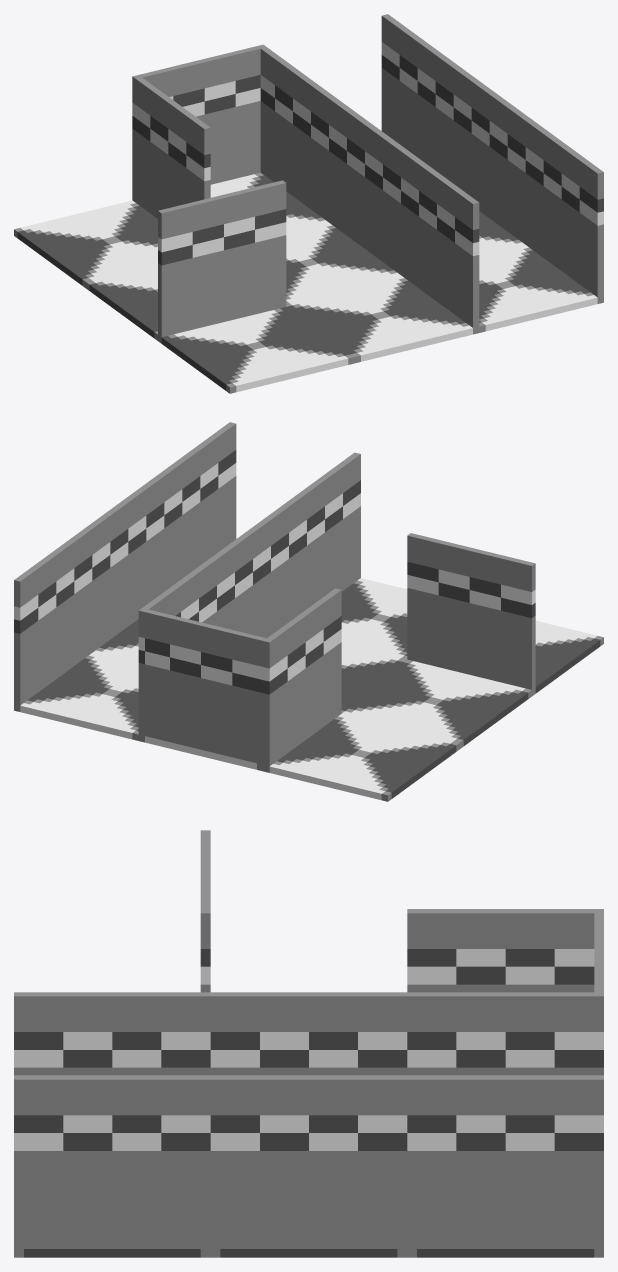
File: level_maze-16.obj
The picture shows the model from 3 angles, top to bottom: view 1: azimuth 30°, elevation 25°; view 2: azimuth 150°, elevation 25°; view 3: azimuth 270°, elevation 25°; orthographic projection. The views are drawn at different scales.
Visible parts, largest first — view 1: level_maze-16; view 2: level_maze-16; view 3: level_maze-16.
Part boxes in pixels (x1=…): level_maze-16: x1=14, y1=14, x2=603, y2=393; level_maze-16: x1=14, y1=422, x2=603, y2=801; level_maze-16: x1=14, y1=830, x2=603, y2=1257.
Size of the model in its own units: 60 by 20 by 60.
Materials: 1 (1 with a texture image).
